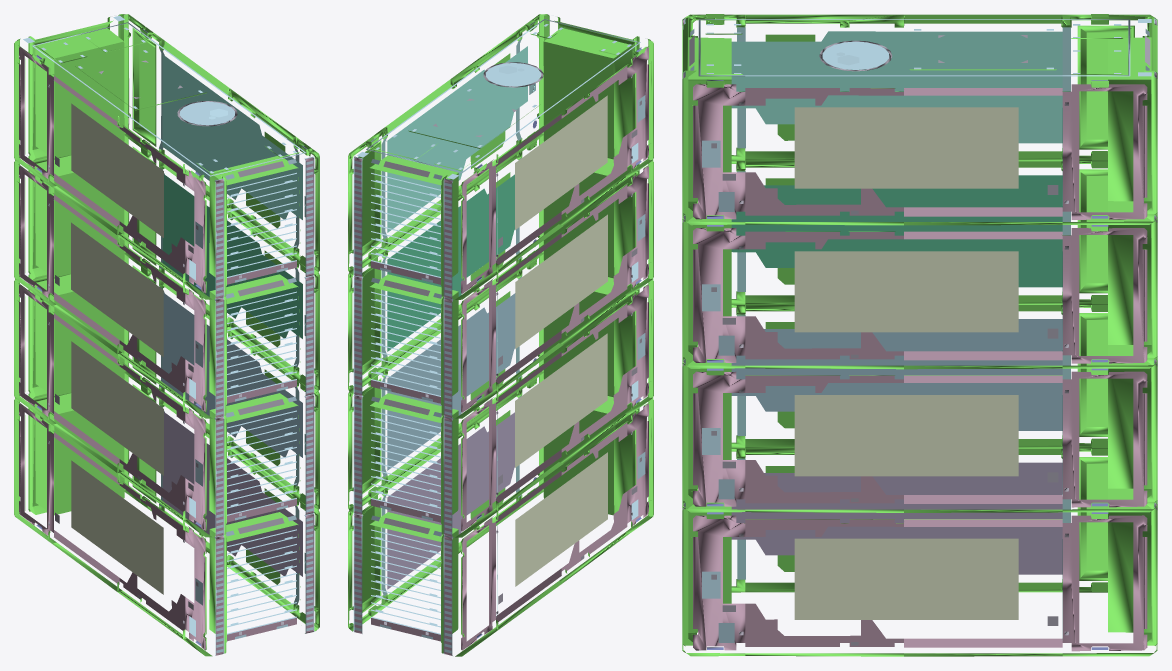
Rendered from storage_container_stack_2_a_lod1.glb.
3 renders of one model, left to right at view 1: azimuth 30°, elevation 25°; view 2: azimuth 150°, elevation 25°; view 3: azimuth 270°, elevation 25°, orthographic. The views are drawn at different scales.
Size of the model in its own units: 2.52 by 10.03 by 7.49.
